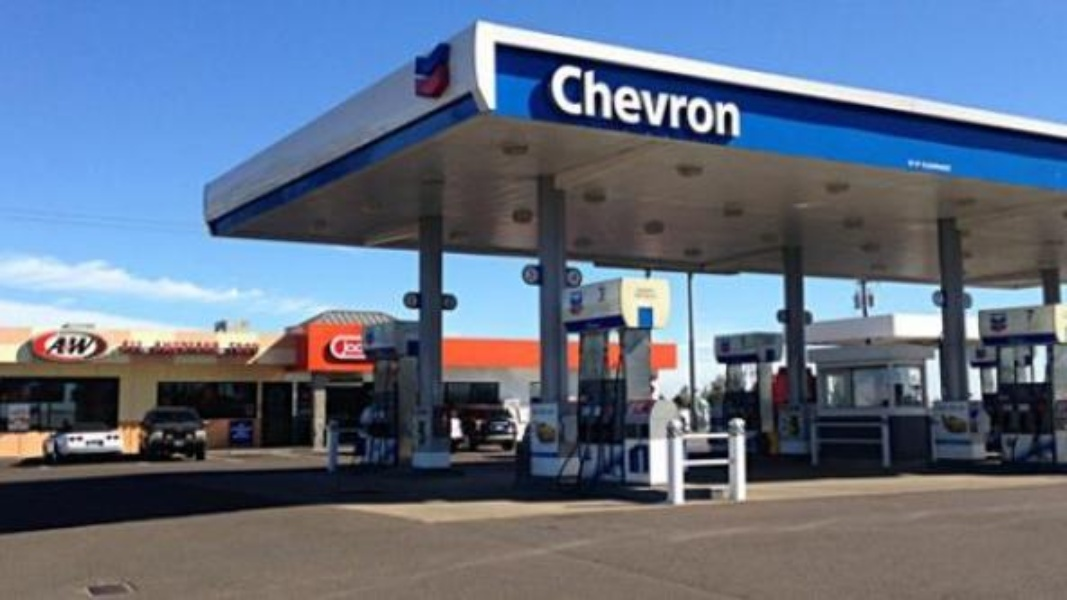text: (561, 62, 576, 141), (577, 62, 592, 141), (593, 62, 608, 141), (609, 62, 624, 141), (625, 62, 640, 141), (641, 62, 656, 141), (657, 62, 672, 141), (673, 62, 688, 141), (689, 62, 704, 141), (705, 62, 720, 141), (721, 62, 736, 141), (552, 62, 560, 141), (737, 62, 743, 141), (65, 334, 80, 355), (81, 334, 94, 355), (338, 339, 352, 355), (339, 339, 352, 355), (353, 339, 365, 355), (55, 334, 64, 355)
